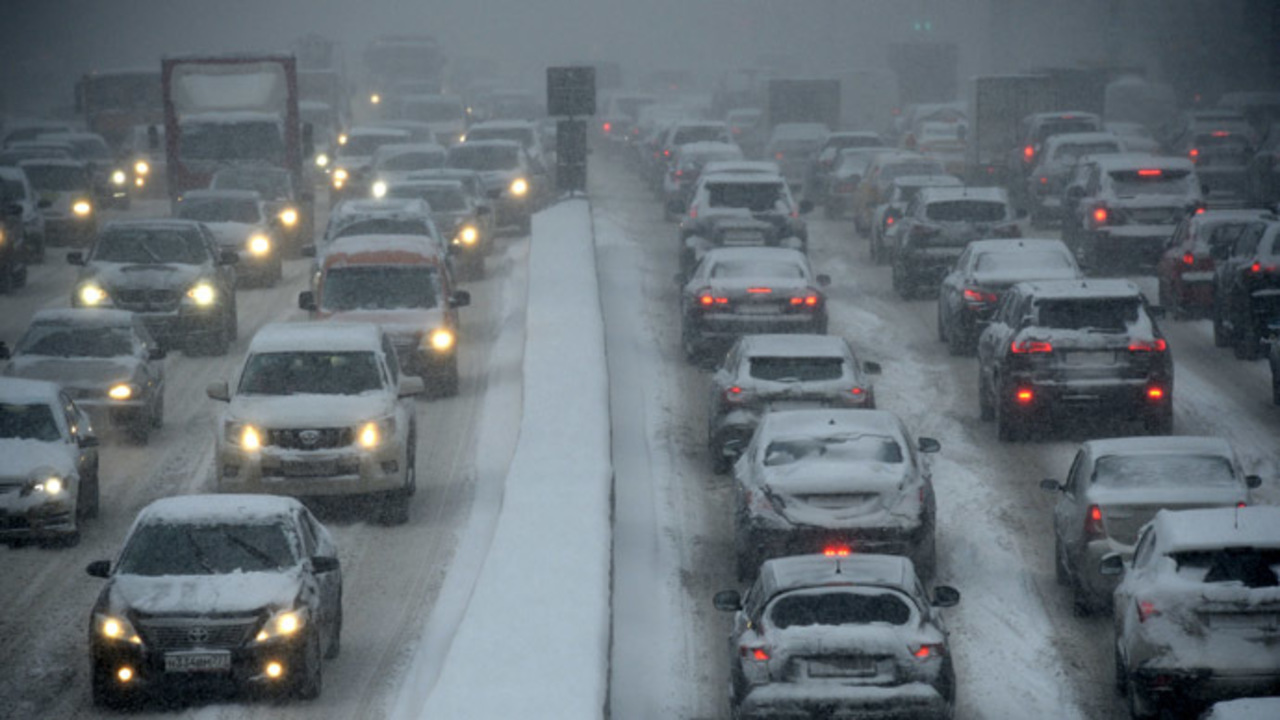car: (82, 493, 340, 710), (721, 546, 947, 717), (214, 322, 411, 518), (1112, 505, 1279, 716), (1049, 436, 1256, 605), (1088, 480, 1265, 666), (978, 284, 1169, 444), (737, 408, 927, 553), (68, 219, 233, 359), (316, 240, 468, 381), (706, 336, 866, 445), (935, 237, 1088, 350), (4, 334, 158, 443), (0, 372, 96, 545), (682, 247, 826, 357), (1065, 159, 1202, 274), (884, 186, 1022, 299), (1167, 212, 1272, 315), (683, 167, 800, 257), (376, 187, 486, 278), (177, 191, 283, 284), (449, 140, 543, 230), (1214, 214, 1268, 354), (40, 133, 128, 205), (23, 158, 98, 231), (1036, 141, 1114, 205), (1013, 112, 1084, 181), (334, 128, 406, 188), (1177, 121, 1246, 181), (863, 160, 903, 261), (600, 92, 659, 154), (663, 150, 738, 198), (765, 122, 833, 174), (622, 101, 683, 155), (369, 146, 443, 190), (128, 124, 167, 194), (828, 154, 863, 211), (302, 118, 331, 172), (724, 107, 766, 142), (646, 123, 668, 179)
truck: (160, 50, 309, 245), (79, 70, 166, 201), (968, 69, 1060, 180), (283, 38, 341, 174), (360, 38, 447, 116), (830, 63, 899, 143), (766, 73, 838, 149)
